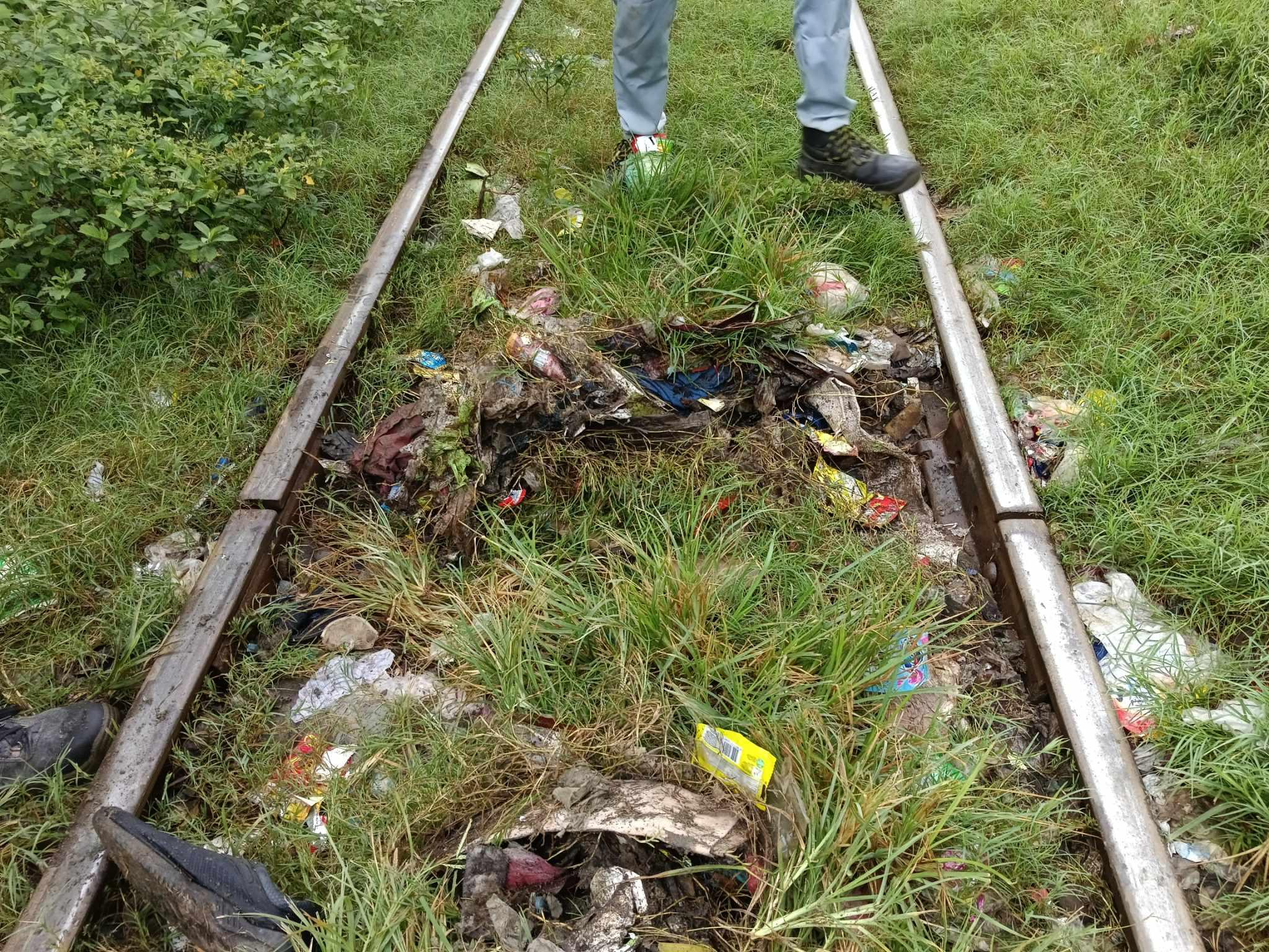railway-gap: (965, 476, 1075, 567), (205, 463, 313, 551)
